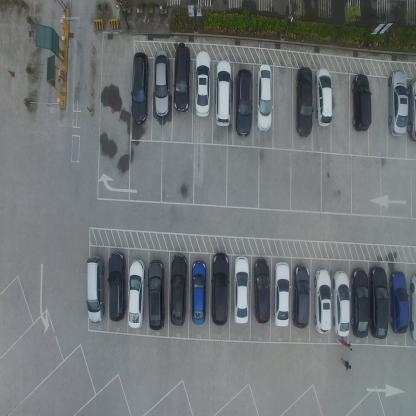car: (369, 265, 390, 339), (131, 51, 150, 126), (85, 254, 105, 324), (351, 265, 370, 338), (147, 258, 166, 331), (211, 251, 229, 327), (388, 70, 408, 138), (296, 64, 314, 139), (350, 72, 372, 133), (170, 254, 188, 326), (127, 258, 145, 330), (108, 251, 126, 323), (214, 60, 233, 127), (235, 68, 253, 138), (332, 269, 350, 339), (390, 269, 409, 334), (274, 261, 292, 329), (254, 257, 272, 325), (174, 42, 191, 113), (314, 267, 332, 334), (256, 62, 273, 132), (293, 264, 311, 329), (233, 254, 249, 325), (315, 68, 334, 127), (195, 49, 211, 119), (154, 49, 170, 116), (191, 259, 207, 326), (407, 75, 416, 143), (410, 272, 415, 344)
